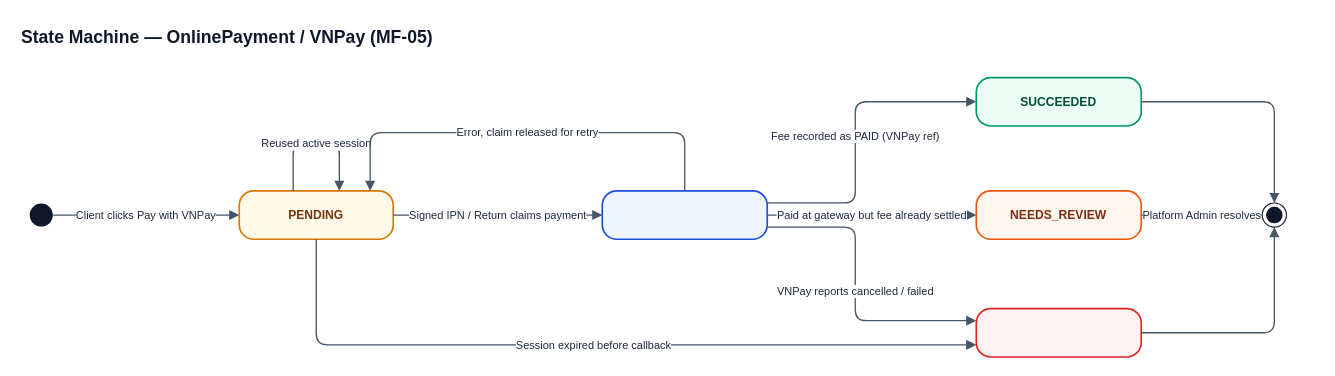
Some shapes in this 1335 by 376 pixel diagram are drawn without their labels. Each missing label, with the centre of its shape:
FAILED: the point at 1058,332
PROCESSING: the point at 684,215
